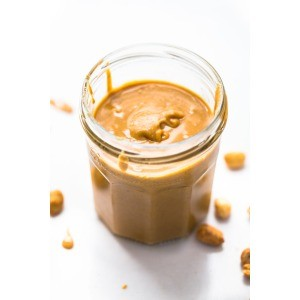peanut butter_brain food: (78, 59, 232, 242)
